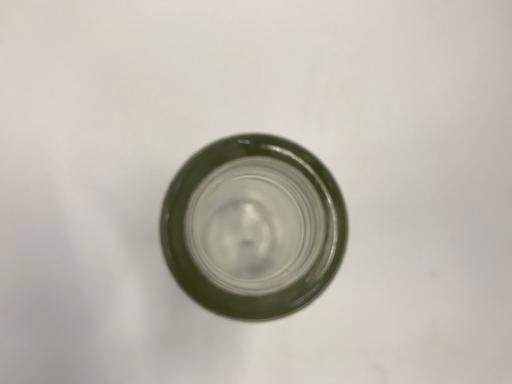glass: (157, 133, 349, 325)
